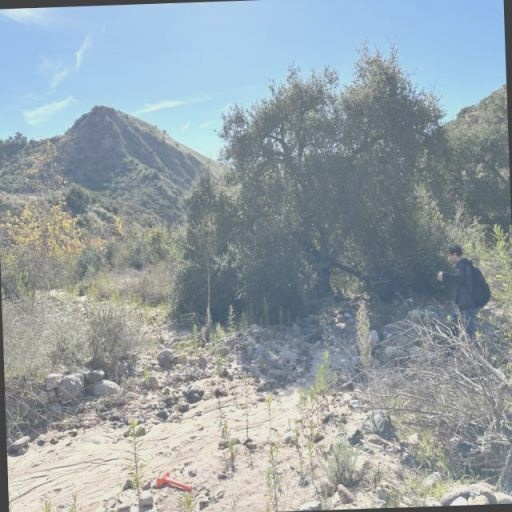mallet: (156, 470, 191, 492)
